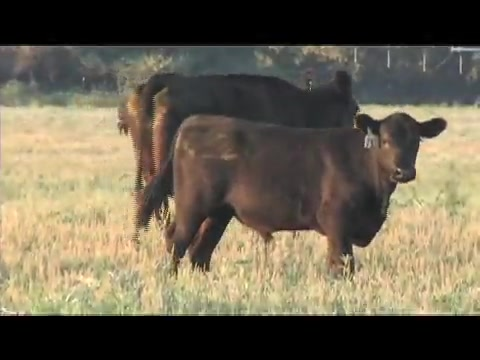cow: (139, 113, 447, 279), (133, 69, 363, 236)
